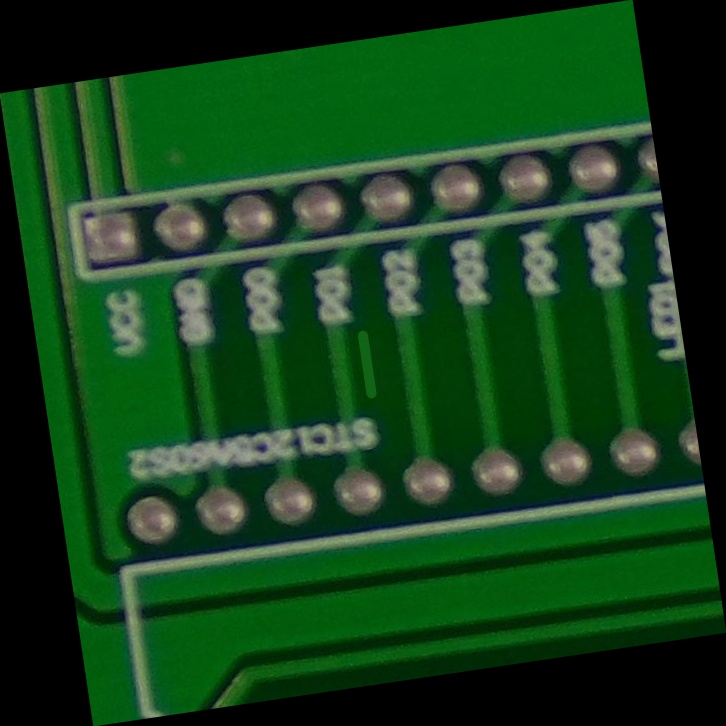spurious_copper: (333, 318, 393, 409)
